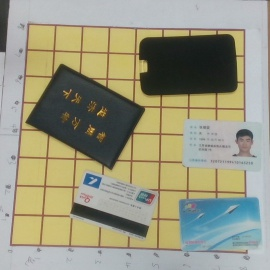card: (69, 169, 158, 242), (178, 194, 264, 252), (182, 118, 264, 173)
wallet: (137, 33, 239, 96)
